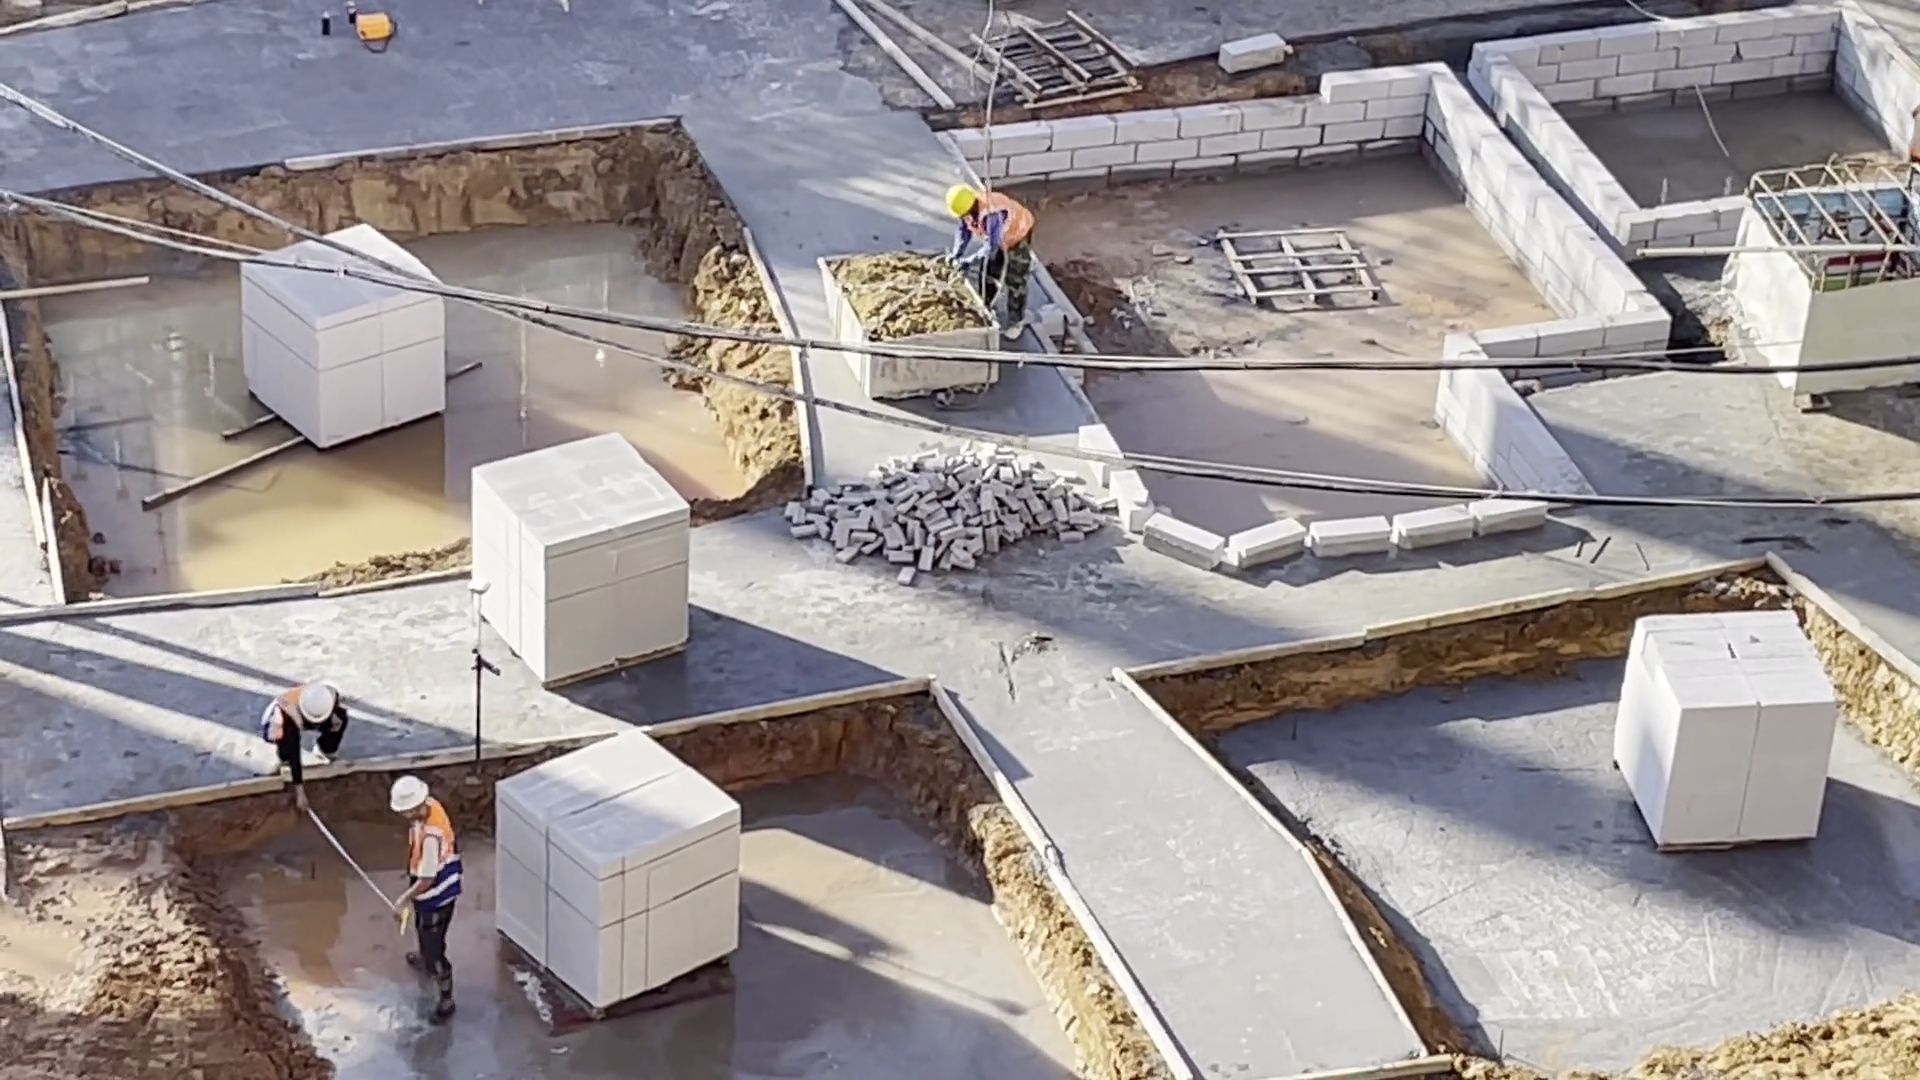brick: (489, 731, 754, 1013), (464, 427, 702, 685), (1605, 606, 1841, 853), (239, 305, 450, 452)
helmet: (389, 772, 436, 819), (940, 182, 982, 219), (297, 683, 334, 722)
hopper: (808, 248, 954, 343)
person: (381, 772, 475, 1027), (940, 182, 1037, 346), (262, 680, 351, 808)
vest: (401, 798, 466, 915), (977, 189, 1034, 250)
